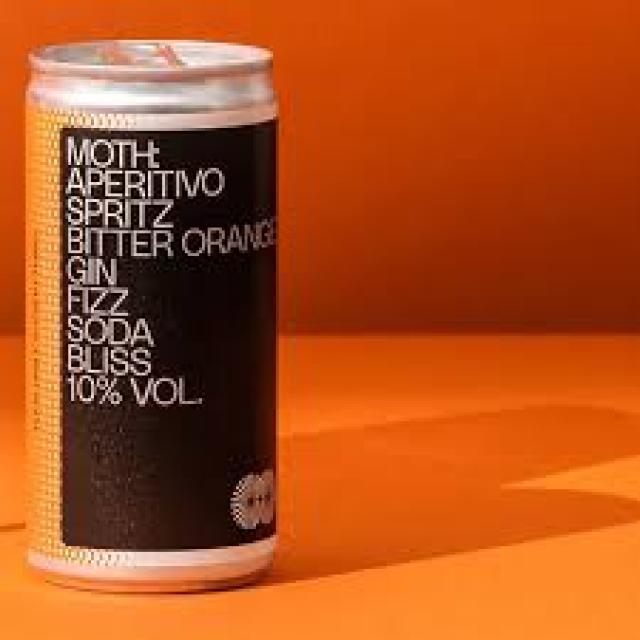Cans: (14, 32, 299, 594)
